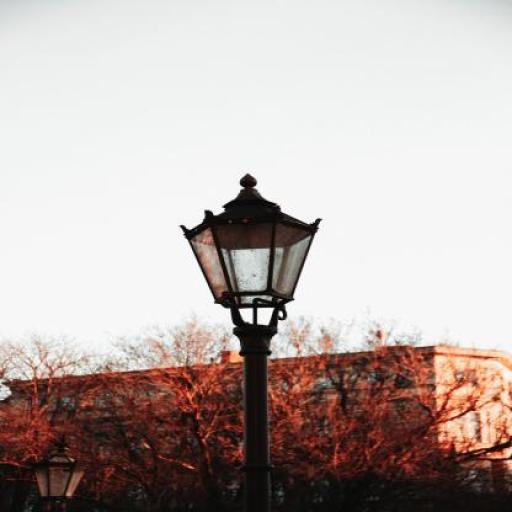street light: (178, 174, 322, 512), (35, 436, 86, 510)
